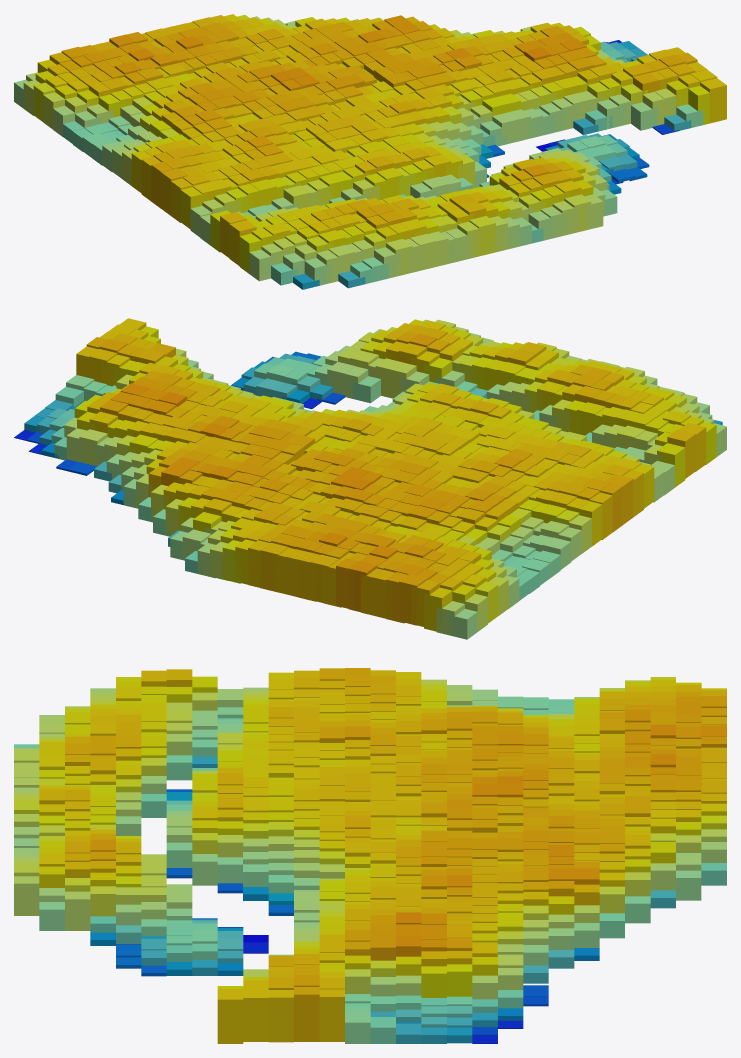
File: population.glb
The picture shows the model from 3 angles, top to bottom: view 1: azimuth 30°, elevation 25°; view 2: azimuth 150°, elevation 25°; view 3: azimuth 270°, elevation 25°; orthographic projection. The views are drawn at different scales.
Parts seen in each view (by area): view 1: population; view 2: population; view 3: population.
Boxes of the visible parts, box(x1,y1,x2,y2) form: population: box(14, 14, 726, 289); population: box(14, 318, 726, 639); population: box(14, 668, 726, 1043).
Bounding box in the file's own units: 3036 × 233 × 2796.
